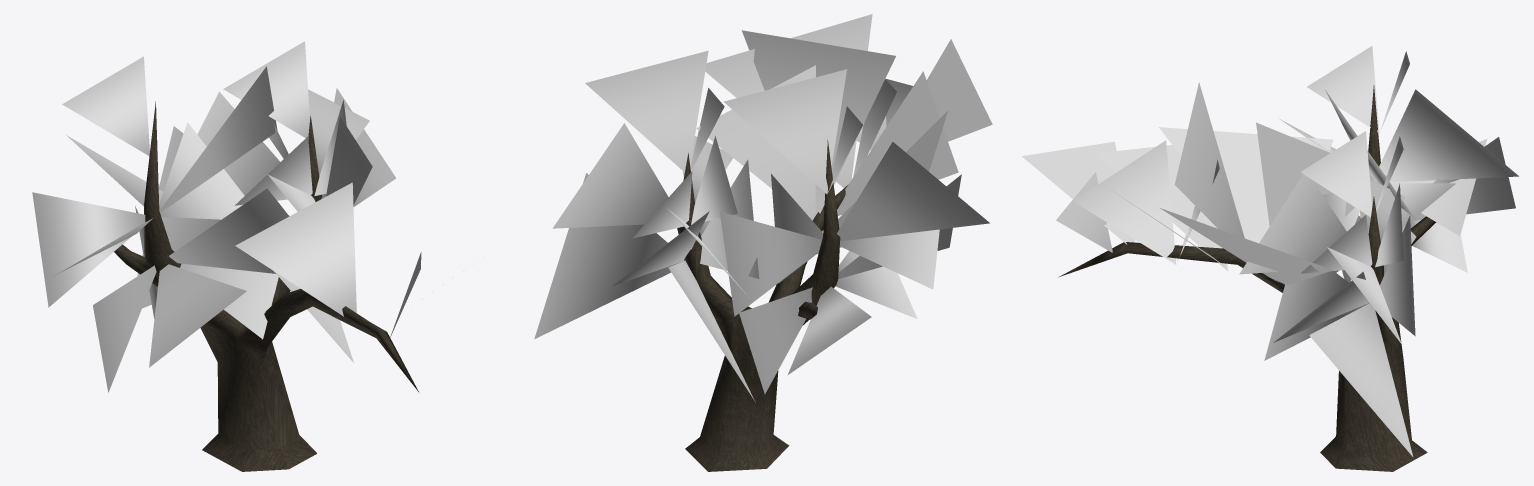
File: sakuraPine_LOD100.glb
The picture shows the model from 3 angles, left to right: view 1: azimuth 30°, elevation 25°; view 2: azimuth 150°, elevation 25°; view 3: azimuth 270°, elevation 25°; orthographic projection. The views are drawn at different scales.
Visible parts, largest first — view 1: sakura_leaves.jpg__, tree_zen.jpg__; view 2: sakura_leaves.jpg__, tree_zen.jpg__; view 3: sakura_leaves.jpg__, tree_zen.jpg__.
Boxes of the visible parts, x1,y1,x2,y2 form: sakura_leaves.jpg__: (32, 41, 421, 392); tree_zen.jpg__: (114, 101, 418, 471); sakura_leaves.jpg__: (534, 14, 992, 402); tree_zen.jpg__: (677, 140, 848, 471); sakura_leaves.jpg__: (1022, 46, 1518, 456); tree_zen.jpg__: (1058, 85, 1436, 471).
Size of the model in its own units: 16.3 by 14.95 by 17.85.
Materials: 2 (1 with a texture image).
